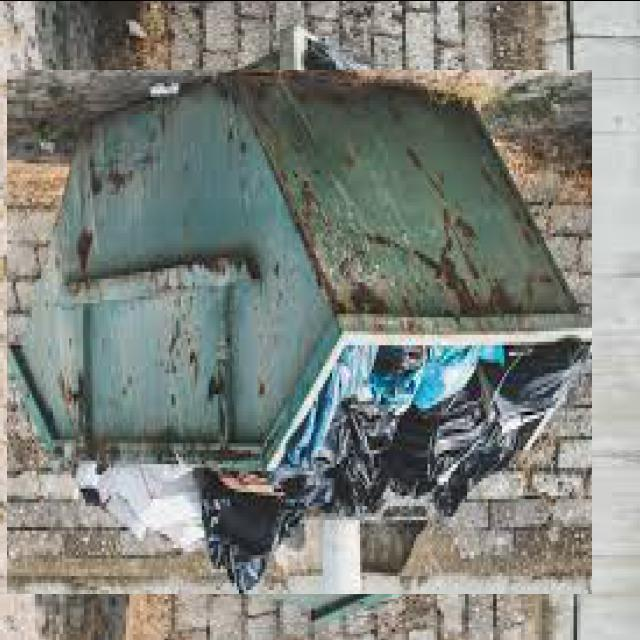Trashbag: (400, 347, 574, 506), (192, 485, 322, 591), (312, 408, 406, 522)
